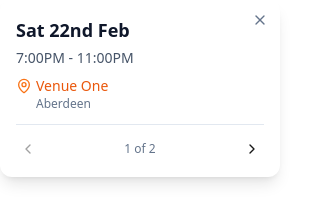
Test case: EventMarkerPopup › Multiple events navigation › navigates to next event when Next clicked
Expected: the link "Venue One" is shown, [36,76,108,96]
Click next
Click the button named "next": point(252, 149) [240,137,264,161]
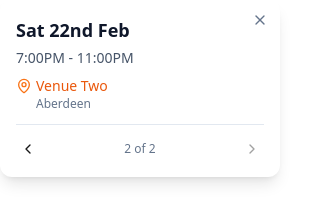
Result: the link "Venue Two" is shown at [36,76,108,96]
Result: the text "2 of 2" is shown at [124,141,156,157]
